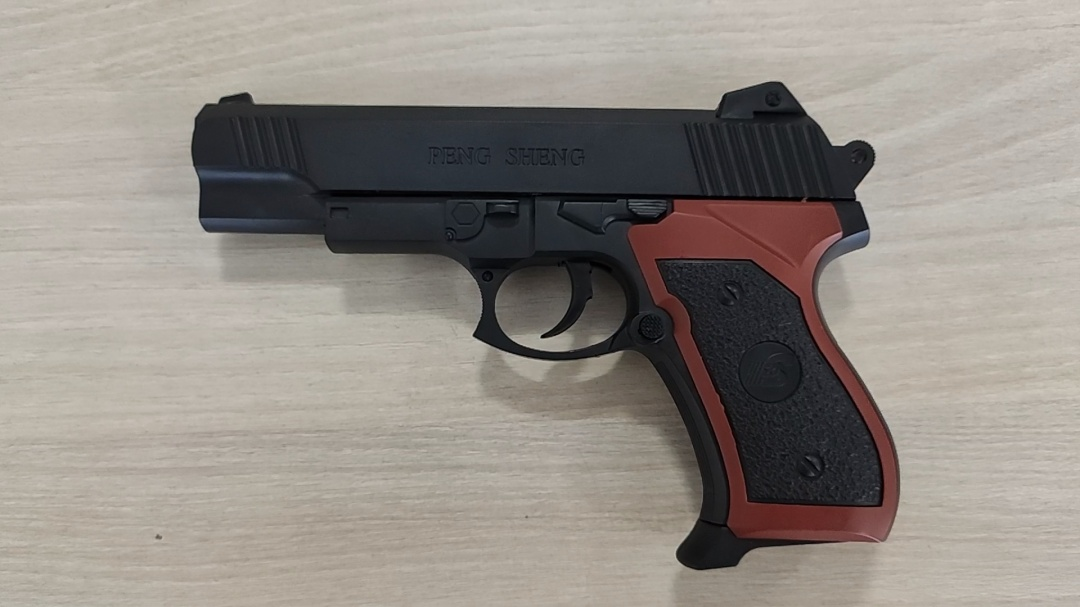gun: (458, 206, 588, 327)
